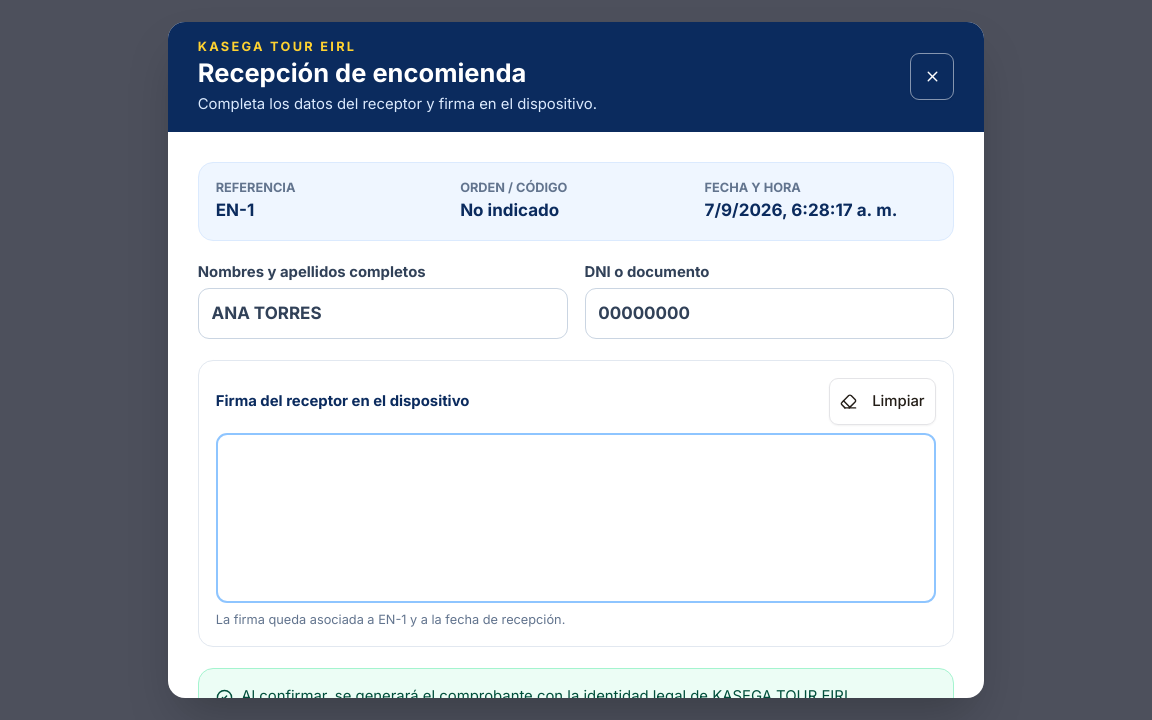
Scenario: DeliveryReceiptDialog › diferencia Kasega y habilita impresión solo después de completar los datos y la firma
Later steps or results of the test are not shown.
Expected: the text "KASEGA TOUR EIRL" is shown, [198,39,356,54]
Press the mouse on the drawing with id "delivery-signature-canvas": {"x": 576, "y": 518} [216,433,936,603]
(page scrolled)
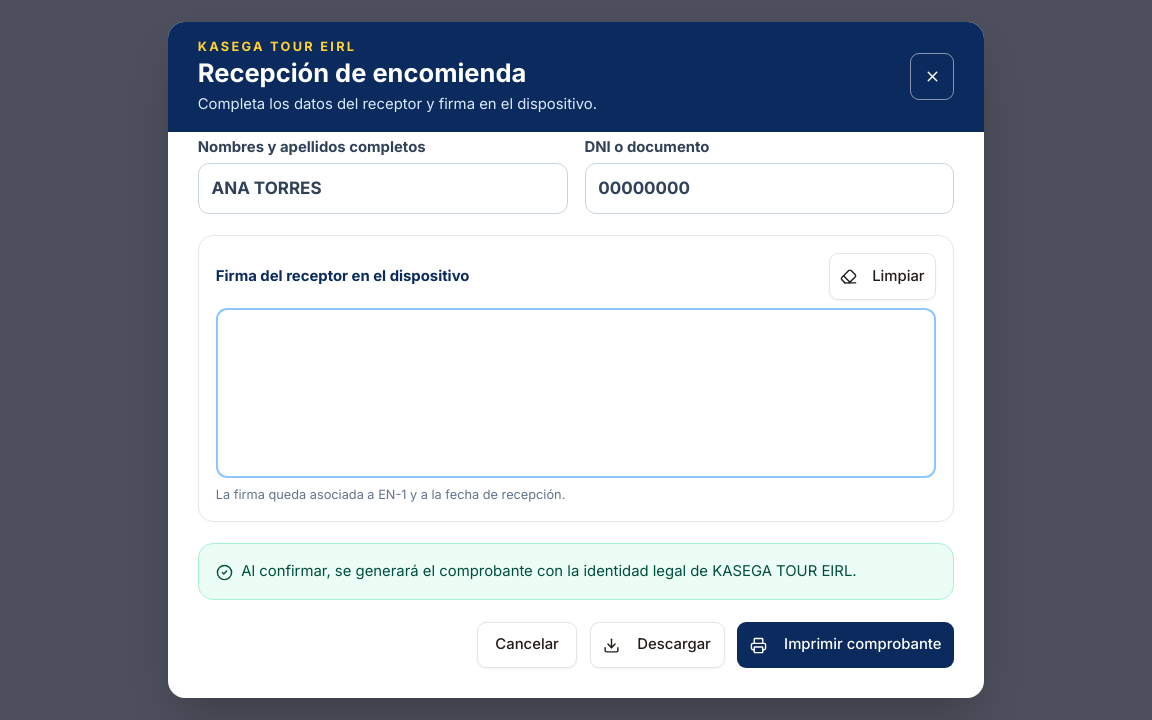
Now the button "Imprimir comprobante" is enabled, box [737,622,954,668]
